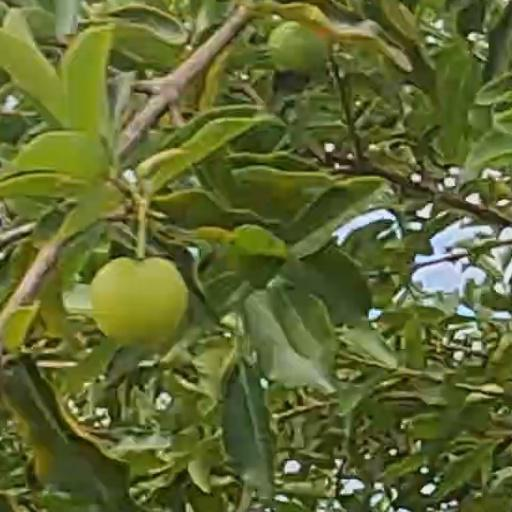acerola: (92, 257, 190, 344), (269, 20, 330, 71)
